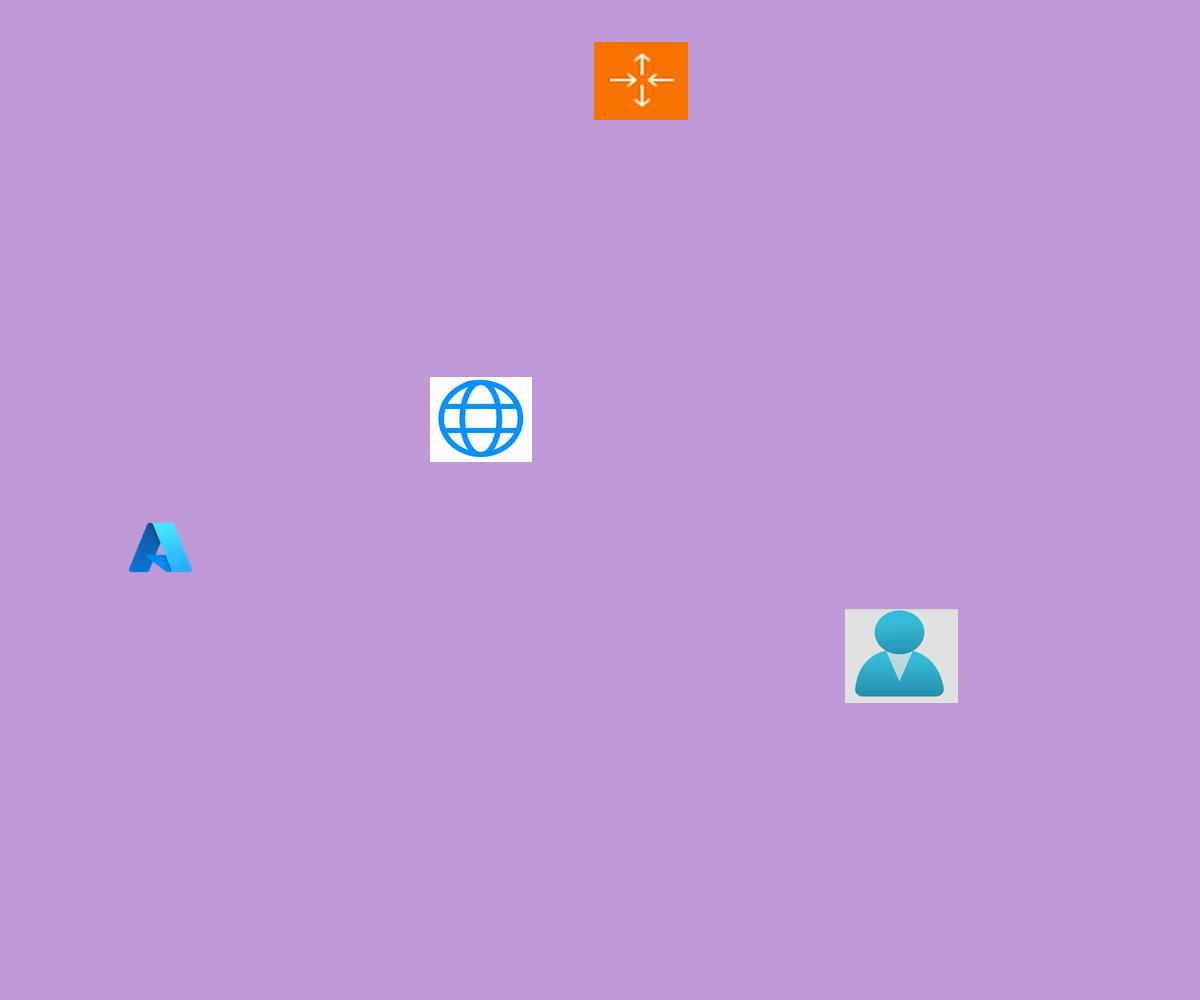AWS-Scaling-group: (594, 42, 688, 120)
Azure_http: (430, 377, 532, 462)
Azure_services: (126, 519, 195, 576)
Azure_users: (845, 609, 958, 703)
